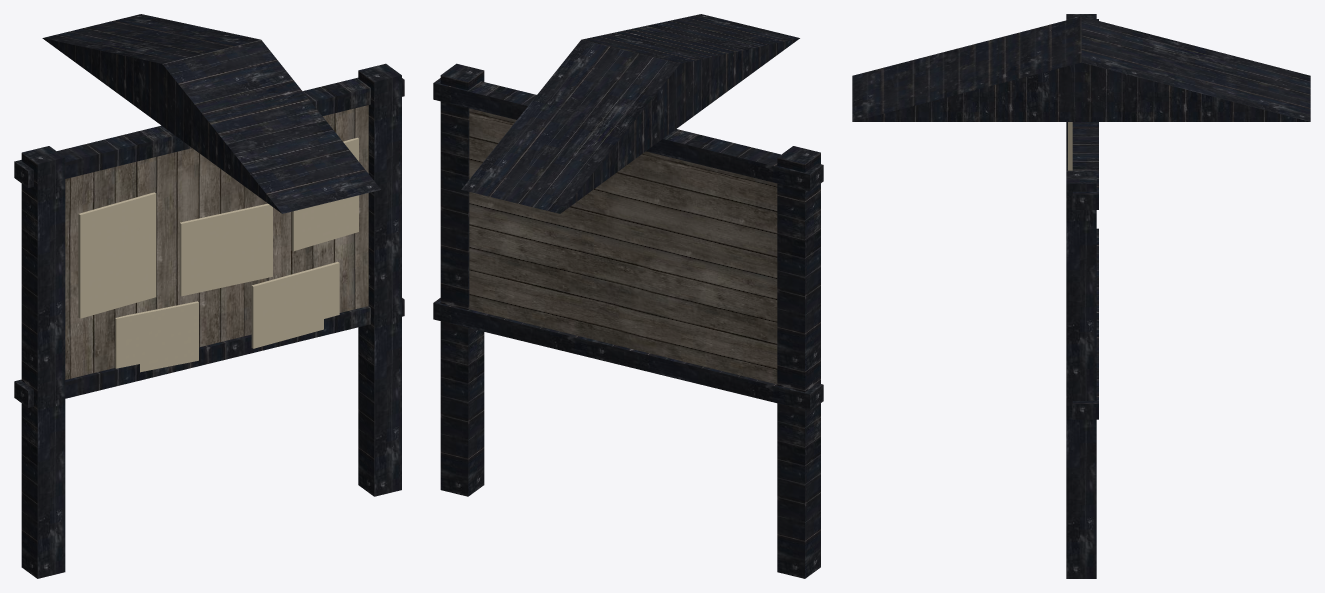
File: notice_board_01.glb
3 renders of one model, left to right at view 1: azimuth 30°, elevation 25°; view 2: azimuth 150°, elevation 25°; view 3: azimuth 270°, elevation 25°, orthographic. The views are drawn at different scales.
Parts seen in each view (by area): view 1: notice_board_01; view 2: notice_board_01; view 3: notice_board_01.
Part boxes in pixels (x1,y1,x2,y2): notice_board_01: (14,14,404,578); notice_board_01: (433,14,823,578); notice_board_01: (852,14,1310,578).
Bounding box in the file's own units: 1.9 × 2.3 × 2.1.
3 materials, 3 textured.
